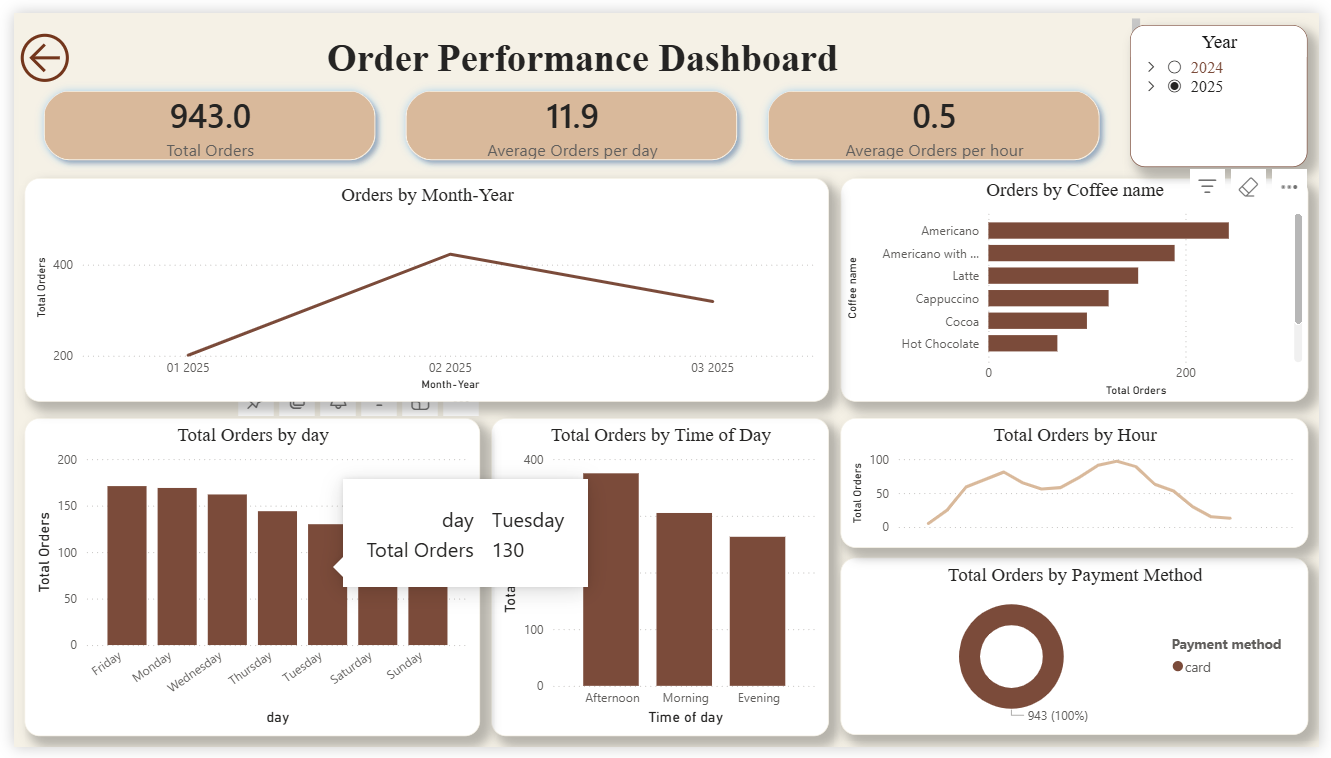

This screenshot's page, from the dashboard's own definition file:
{"tool":"powerbi","page":{"name":"Order","canvas":[1280,720],"ordinal":1},"visuals":[{"type":"columnChart","title":"Total Orders by Time of Day","fields":{"Category":["coffee_sales_clean.time_of_day"],"Y":["coffee_sales_clean.Total Orders"]},"box":[467.9,396.7,331.6,311.9],"z":0},{"type":"columnChart","fields":{"Y":["coffee_sales_clean.Total Orders"],"Category":["coffee_sales_clean.day"]},"box":[10.6,396.7,446.7,311.9],"z":1000},{"type":"donutChart","title":"Total Orders by Payment Method","fields":{"Category":["coffee_sales_clean.payment_method"],"Y":["coffee_sales_clean.Total Orders"]},"box":[810.1,534.5,458.8,174.1],"z":2000},{"type":"cardVisual","fields":{"Data":["coffee_sales_clean.Total Orders","coffee_sales_clean.Average Orders per day","coffee_sales_clean.Average Orders per hour"]},"box":[0,47.5,1094.4,126.6],"z":2500},{"type":"barChart","title":"Orders by Coffee name","fields":{"Category":["coffee_sales_clean.coffee_name"],"Y":["coffee_sales_clean.Total Orders"]},"box":[810.1,162,458.8,219.6],"z":3000},{"type":"lineChart","title":"Total Orders by Hour","fields":{"Category":["coffee_sales_clean.hour"],"Y":["coffee_sales_clean.Total Orders"]},"box":[810.1,396.7,458.8,127.2],"z":4000},{"type":"lineChart","title":"Orders by Month-Year","fields":{"Category":["coffee_sales_clean.Month-Year"],"Y":["coffee_sales_clean.Total Orders"]},"box":[10.6,162,788.9,219.6],"z":6000},{"type":"textbox","box":[15,0,1094.4,66.2],"z":7000},{"type":"listSlicer","fields":{"Values":["coffee_sales_clean.date.Variation.Date Hierarchy.Year","coffee_sales_clean.date.Variation.Date Hierarchy.Quarter","coffee_sales_clean.date.Variation.Date Hierarchy.Month","coffee_sales_clean.date.Variation.Date Hierarchy.Day"]},"box":[1094.8,12.1,174.1,139.3],"z":8000},{"type":"actionButton","box":[0,11.5,60.4,64.7],"z":9000}]}

Visuals, with their boxes in screenshot pixels (x1, y1, x2, y2), scaled from the page's 1280x720 canvas onto the 1331x758 screenshot:
"Total Orders by Time of Day" columnChart: pyautogui.locateOnScreen(487, 418, 831, 746)
columnChart - coffee_sales_clean.Total Orders x coffee_sales_clean.day: pyautogui.locateOnScreen(11, 418, 476, 746)
"Total Orders by Payment Method" donutChart: pyautogui.locateOnScreen(842, 563, 1319, 746)
cardVisual - coffee_sales_clean.Total Orders x coffee_sales_clean.Average Orders per day: pyautogui.locateOnScreen(0, 50, 1138, 183)
"Orders by Coffee name" barChart: pyautogui.locateOnScreen(842, 171, 1319, 402)
"Total Orders by Hour" lineChart: pyautogui.locateOnScreen(842, 418, 1319, 552)
"Orders by Month-Year" lineChart: pyautogui.locateOnScreen(11, 171, 831, 402)
textbox: pyautogui.locateOnScreen(16, 0, 1154, 70)
listSlicer - coffee_sales_clean.date.Variation.Date Hierarchy.Year x coffee_sales_clean.date.Variation.Date Hierarchy.Quarter: pyautogui.locateOnScreen(1138, 13, 1319, 159)
actionButton: pyautogui.locateOnScreen(0, 12, 63, 80)
